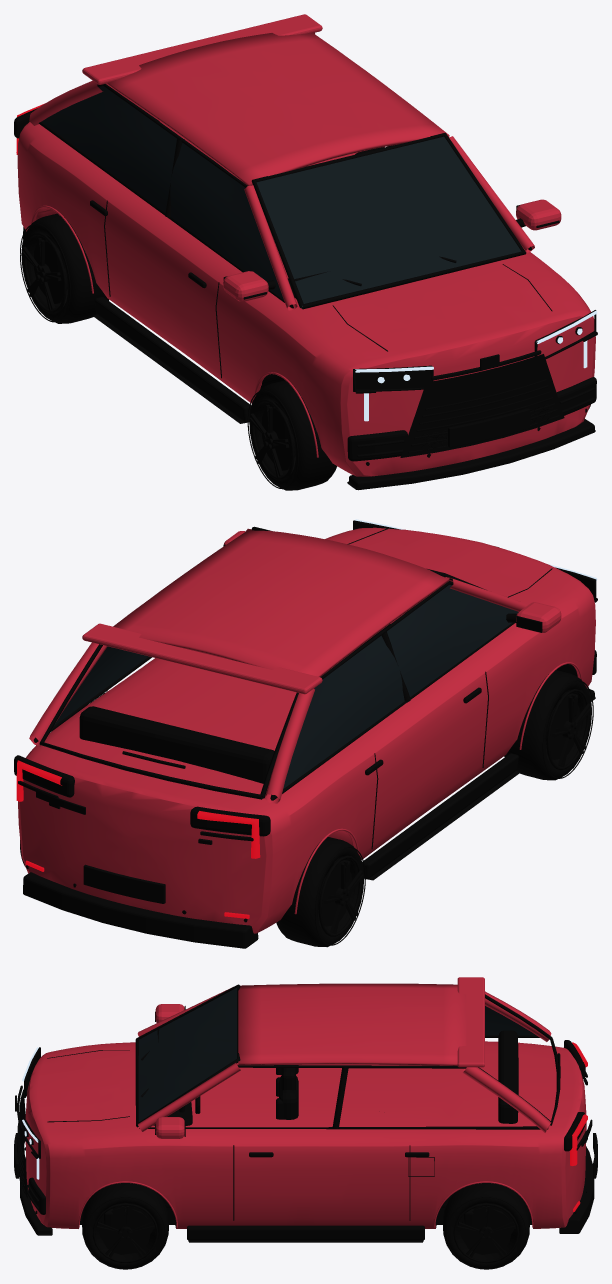
File: myvi.glb
3 views of the same model, one above another, from view 1: azimuth 30°, elevation 25°; view 2: azimuth 150°, elevation 25°; view 3: azimuth 270°, elevation 25° (orthographic). The views are drawn at different scales.
Visible parts, largest first — view 1: chassis.001__Automotive clearcoat, chassis.001__Solar glass, chassis.001__Vehicle detail atlas, wheel_FL.001__Vehicle detail atlas, wheel_RL.001__Vehicle detail atlas, chassis.001__White LED optics; view 2: chassis.001__Automotive clearcoat, chassis.001__Vehicle detail atlas, chassis.001__Solar glass, wheel_RL.001__Vehicle detail atlas, wheel_FL.001__Vehicle detail atlas, chassis.001__Red LED optics; view 3: chassis.001__Automotive clearcoat, chassis.001__Vehicle detail atlas, chassis.001__Solar glass, wheel_FR.001__Vehicle detail atlas, wheel_RR.001__Vehicle detail atlas, chassis.001__Red LED optics.
Boxes of the visible parts, box(x1,y1,x2,y2) form: chassis.001__Automotive clearcoat: box(17, 14, 595, 476); chassis.001__Solar glass: box(42, 86, 521, 306); chassis.001__Vehicle detail atlas: box(14, 84, 596, 490); wheel_FL.001__Vehicle detail atlas: box(247, 380, 337, 490); wheel_RL.001__Vehicle detail atlas: box(20, 213, 108, 323); chassis.001__White LED optics: box(355, 311, 597, 421); chassis.001__Automotive clearcoat: box(18, 527, 595, 933); chassis.001__Vehicle detail atlas: box(14, 520, 596, 948); chassis.001__Solar glass: box(54, 584, 518, 798); wheel_RL.001__Vehicle detail atlas: box(276, 837, 365, 947); wheel_FL.001__Vehicle detail atlas: box(504, 670, 593, 780); chassis.001__Red LED optics: box(16, 760, 260, 918); chassis.001__Automotive clearcoat: box(25, 977, 586, 1228); chassis.001__Vehicle detail atlas: box(14, 984, 597, 1242); chassis.001__Solar glass: box(138, 988, 535, 1121); wheel_FR.001__Vehicle detail atlas: box(82, 1183, 168, 1269); wheel_RR.001__Vehicle detail atlas: box(443, 1183, 529, 1269); chassis.001__Red LED optics: box(570, 1042, 587, 1211).
Bounding box in the file's own units: 2.06 × 1.53 × 4.05.
8 materials, 6 textured.
